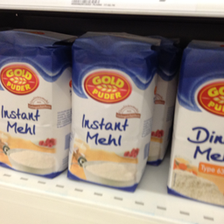flour: (66, 37, 160, 191), (1, 30, 72, 180), (167, 44, 224, 206)
